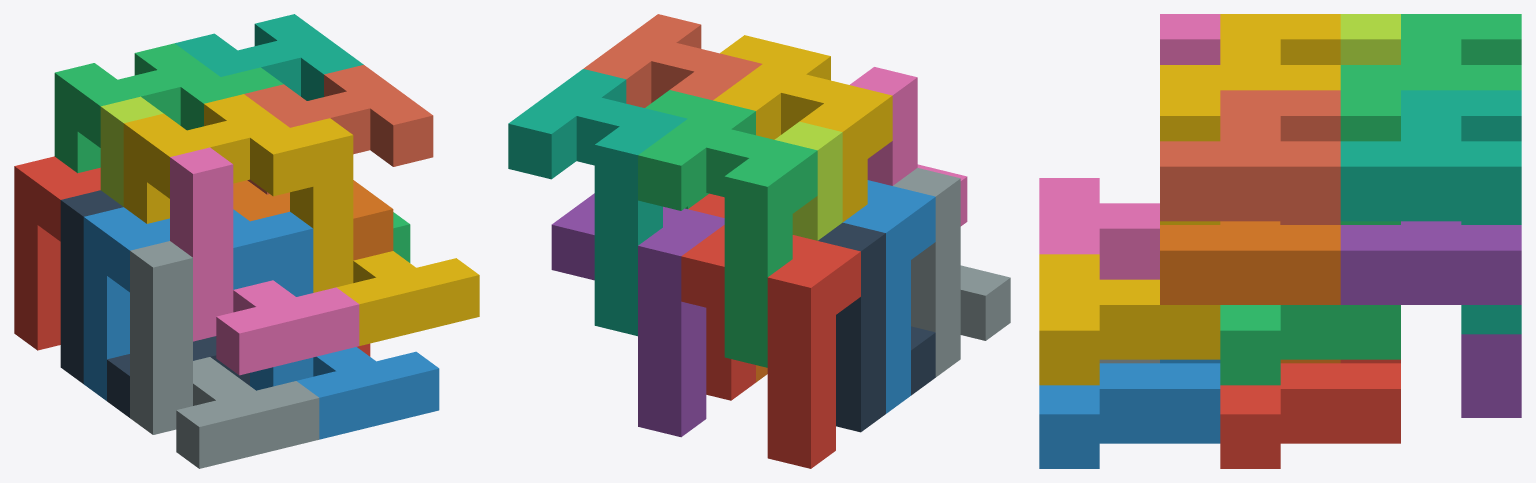
File: tiling.obj
The picture shows the model from 3 angles, left to right: view 1: azimuth 30°, elevation 25°; view 2: azimuth 150°, elevation 25°; view 3: azimuth 270°, elevation 25°; orthographic projection. The views are drawn at different scales.
Visible parts, largest first — view 1: copy_2_domain_2, copy_2_domain_4, copy_2_domain_8, copy_2_domain_6, copy_1_domain_4, copy_1_domain_2, copy_1_domain_3, copy_1_domain_1, copy_1_domain_8, copy_1_domain_7, copy_2_domain_1, copy_1_domain_6 (+2 smaller); view 2: copy_1_domain_3, copy_1_domain_7, copy_1_domain_1, copy_1_domain_5, copy_1_domain_4, copy_2_domain_2, copy_2_domain_1, copy_1_domain_8, copy_1_domain_2, copy_2_domain_4, copy_2_domain_3, copy_2_domain_5 (+2 smaller); view 3: copy_1_domain_7, copy_1_domain_8, copy_1_domain_5, copy_2_domain_8, copy_2_domain_6, copy_2_domain_5, copy_1_domain_6, copy_2_domain_7, copy_2_domain_4, copy_1_domain_3, copy_1_domain_4, copy_2_domain_3.
Boxes of the visible parts, box(x1,y1,x2,y2) form: copy_2_domain_2: box(130, 241, 319, 468); copy_2_domain_4: box(170, 147, 359, 375); copy_2_domain_8: box(290, 118, 479, 345); copy_2_domain_6: box(250, 211, 439, 439); copy_1_domain_4: box(123, 94, 313, 223); copy_1_domain_2: box(83, 207, 273, 400); copy_1_domain_3: box(54, 43, 243, 173); copy_1_domain_1: box(14, 156, 100, 350); copy_1_domain_8: box(244, 65, 433, 194); copy_1_domain_7: box(175, 14, 363, 100); copy_2_domain_1: box(60, 190, 249, 417); copy_1_domain_6: box(233, 180, 393, 260); copy_1_domain_3: box(638, 100, 817, 367); copy_1_domain_7: box(508, 69, 687, 336); copy_1_domain_1: box(681, 225, 860, 468); copy_1_domain_5: box(551, 193, 724, 437); copy_1_domain_4: box(713, 45, 892, 221); copy_2_domain_2: box(893, 168, 1010, 377); copy_2_domain_1: box(818, 222, 935, 432); copy_1_domain_8: box(583, 14, 762, 107); copy_1_domain_2: box(843, 180, 935, 413); copy_2_domain_4: box(850, 67, 967, 226); copy_2_domain_3: box(774, 121, 842, 240); copy_2_domain_5: box(688, 193, 755, 400); copy_1_domain_7: box(1340, 90, 1521, 334); copy_1_domain_8: box(1160, 90, 1340, 224); copy_1_domain_5: box(1340, 221, 1521, 417); copy_2_domain_8: box(1039, 90, 1220, 385); copy_2_domain_6: box(1039, 359, 1220, 468); copy_2_domain_5: box(1220, 359, 1400, 468); copy_1_domain_6: box(1160, 221, 1340, 363); copy_2_domain_7: box(1220, 90, 1400, 385); copy_2_domain_4: box(1039, 14, 1220, 279); copy_1_domain_3: box(1340, 14, 1521, 90); copy_1_domain_4: box(1160, 14, 1340, 90); copy_2_domain_3: box(1340, 14, 1400, 64).
Size of the model in its own units: 7 by 6 by 8.
